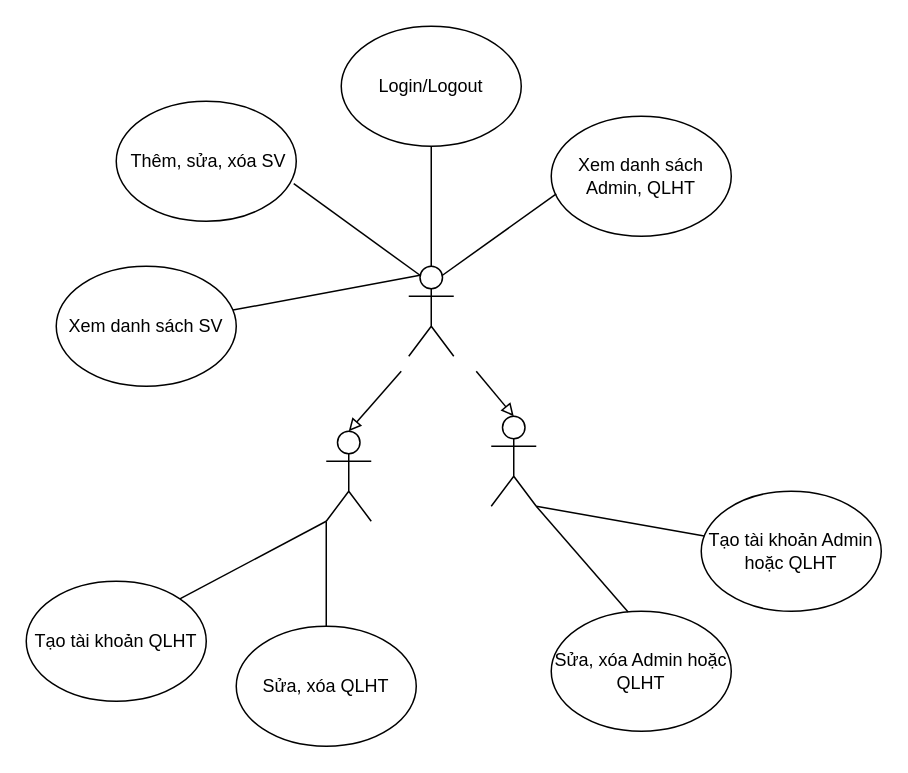
Some shapes in this 908 by 773 pixel diagram are drawn without their labels. The shapes that lost their labels are listed below. From the top down, each one's centre as x and y in pixels, then its label:
At point (430, 310): "User".
At point (348, 475): "QLHT".
At point (513, 460): "Admin".
